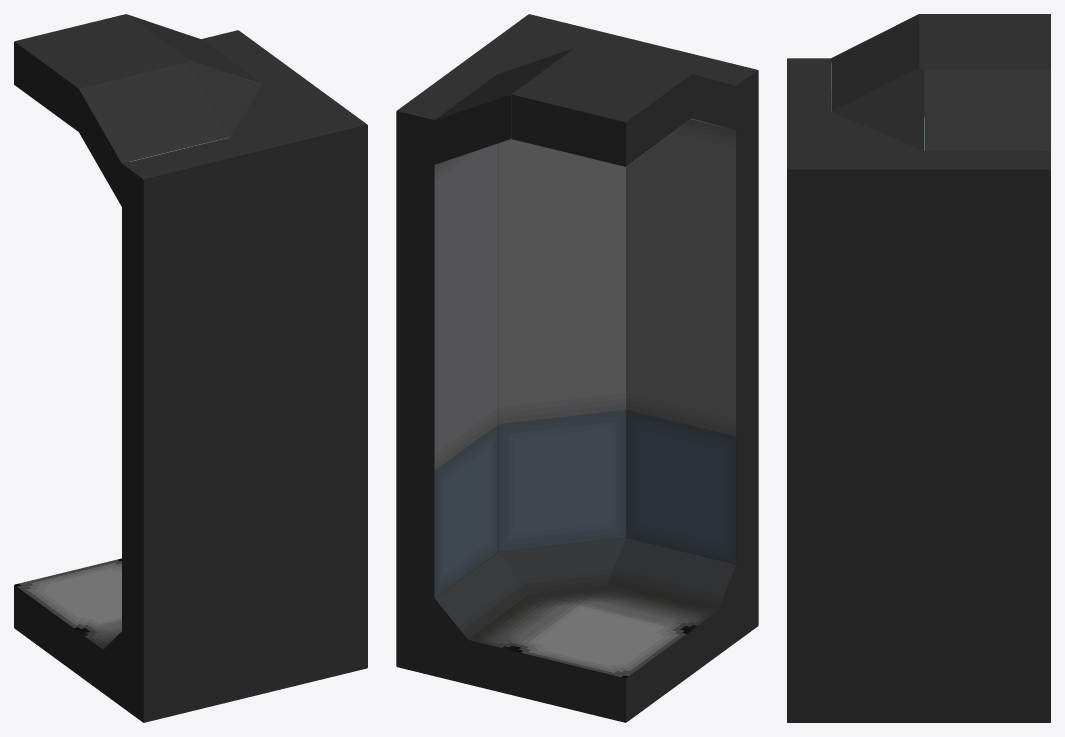
Rendered from ShipWallCorner1.obj.
The picture shows the model from 3 angles, left to right: view 1: azimuth 30°, elevation 25°; view 2: azimuth 150°, elevation 25°; view 3: azimuth 270°, elevation 25°; orthographic projection. The views are drawn at different scales.
Visible parts, largest first — view 1: ShipWall; view 2: ShipWall; view 3: ShipWall.
Part boxes in pixels (<box>): ShipWall: <box>14,14,367,722</box>; ShipWall: <box>396,14,758,722</box>; ShipWall: <box>787,14,1050,722</box>.
Size of the model in its own units: 1 by 2.5 by 1.
Materials: 1 (1 with a texture image).
